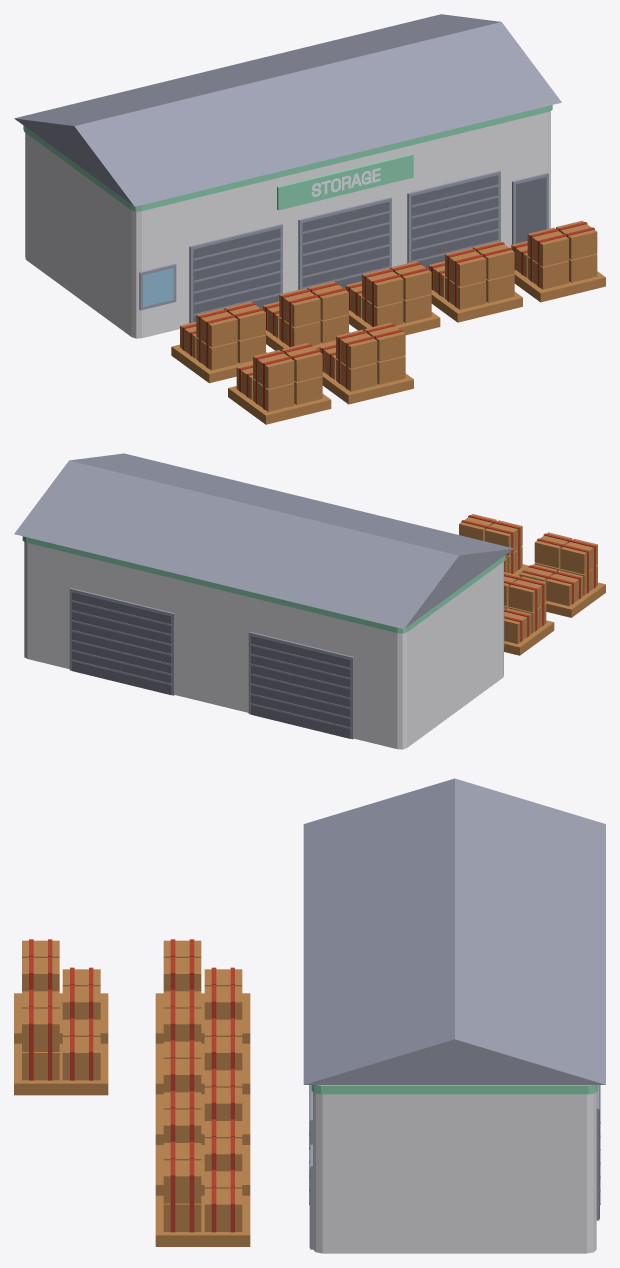
Rendered from storehouse-2x2-t7-tone-a.glb.
3 views of the same model, one above another, from view 1: azimuth 30°, elevation 25°; view 2: azimuth 150°, elevation 25°; view 3: azimuth 270°, elevation 25° (orthographic). The views are drawn at different scales.
Visible parts, largest first — view 1: storehouse-2x2-t7-tone-a; view 2: storehouse-2x2-t7-tone-a; view 3: storehouse-2x2-t7-tone-a.
Boxes of the visible parts, <box> form: storehouse-2x2-t7-tone-a: <box>14,14,605,424</box>; storehouse-2x2-t7-tone-a: <box>14,453,605,749</box>; storehouse-2x2-t7-tone-a: <box>14,778,605,1253</box>.
Bounding box in the file's own units: 1.96 × 0.76 × 1.88.
Materials: 1 (1 with a texture image).
